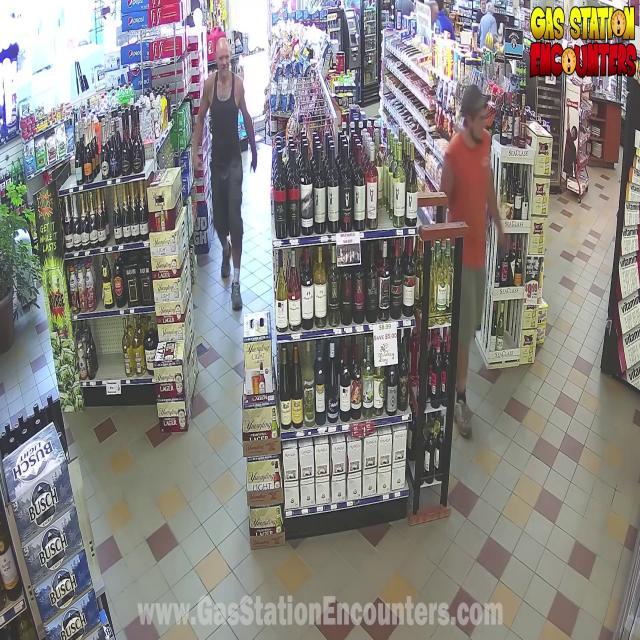normal: (440, 75, 522, 475), (194, 14, 270, 270)
